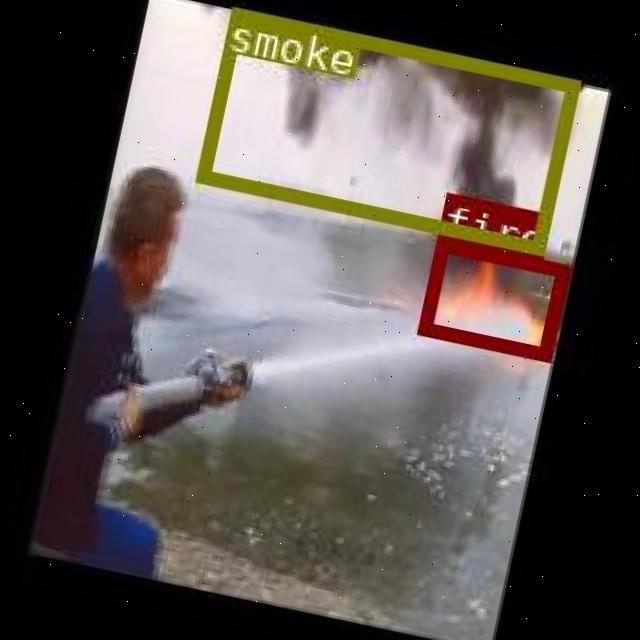fire: (415, 235, 567, 357)
smoke: (192, 6, 578, 252)
